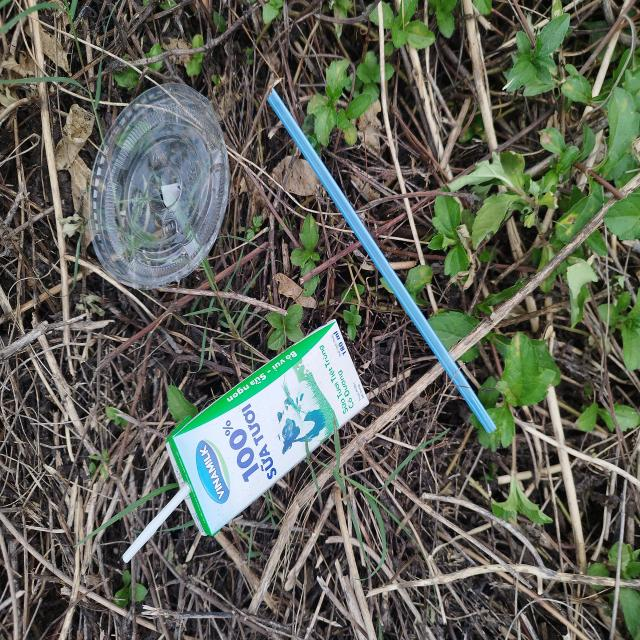drinking straw: (267, 90, 495, 434), (121, 480, 192, 564)
lid: (88, 83, 230, 290)
milk box: (164, 316, 370, 538)
